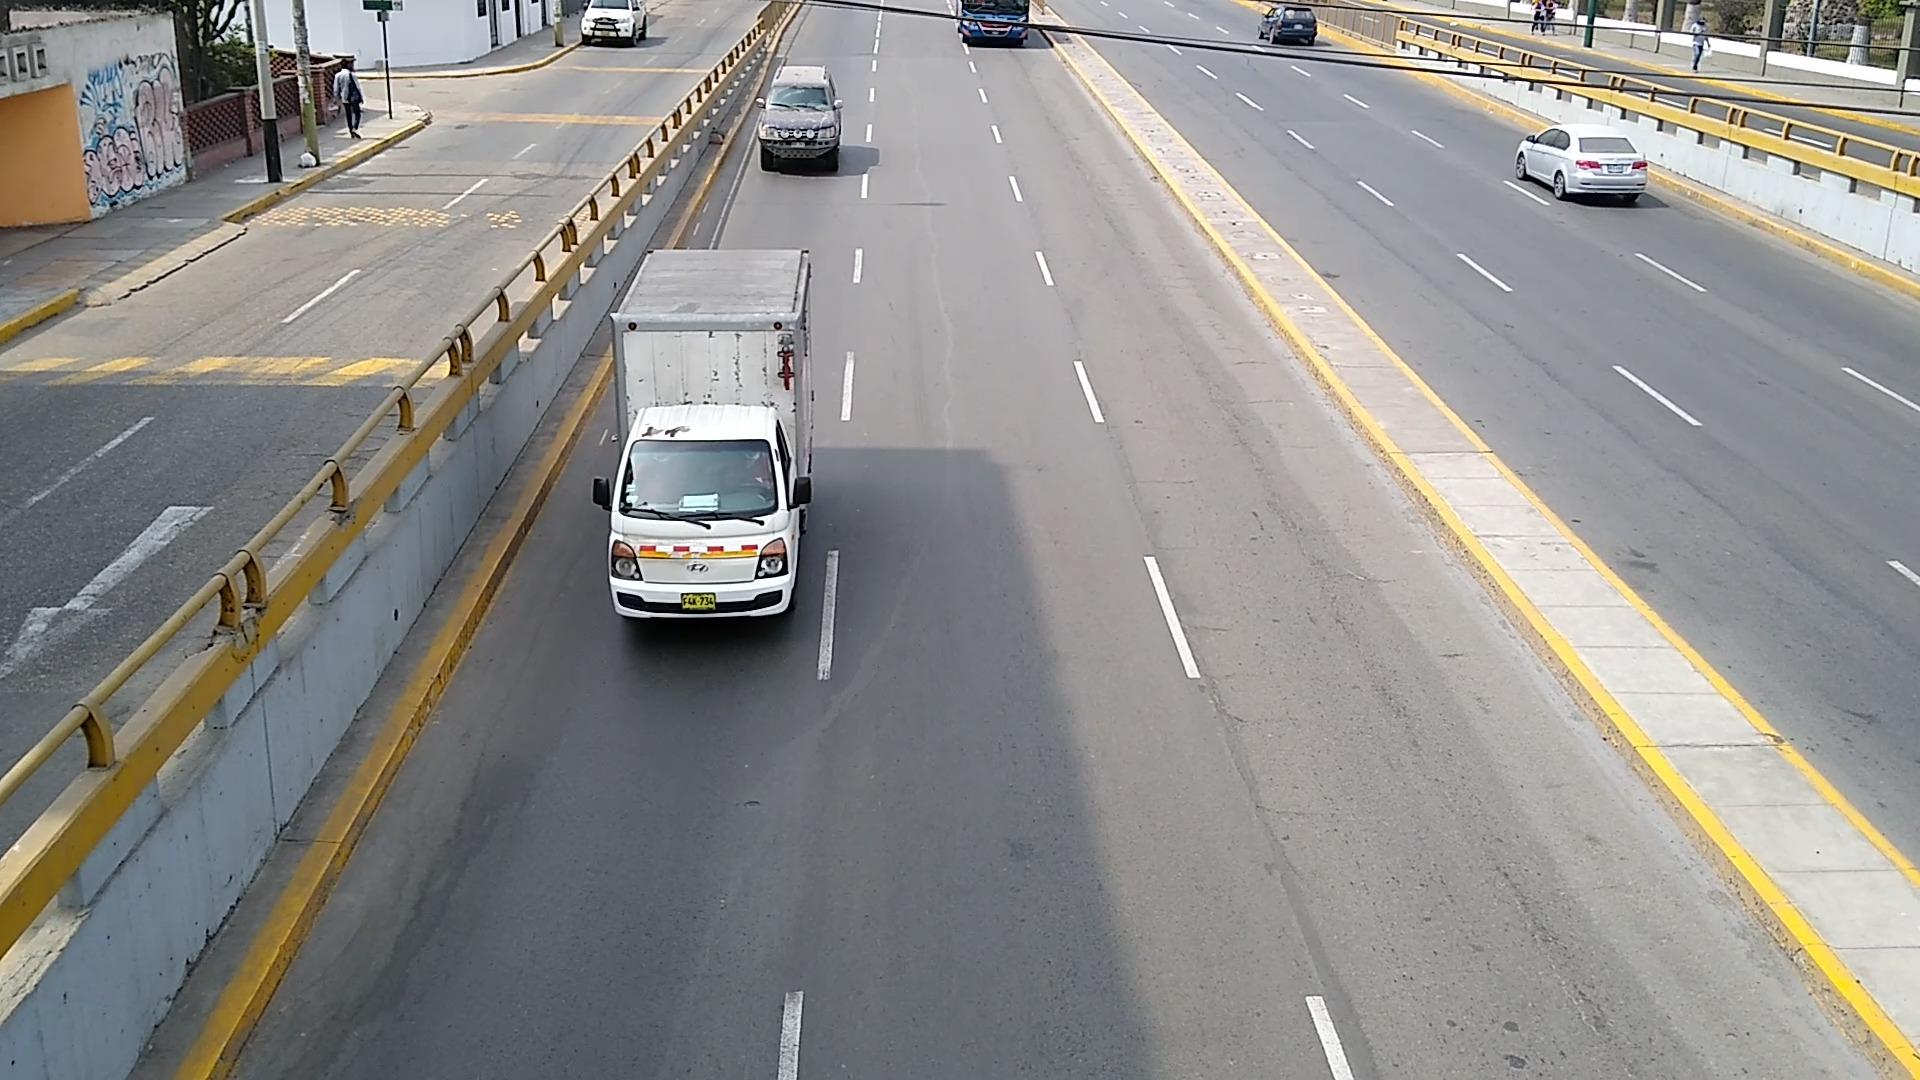car: (1515, 124, 1646, 203), (757, 67, 840, 173), (582, 0, 649, 45)
lorry: (592, 248, 814, 626)
